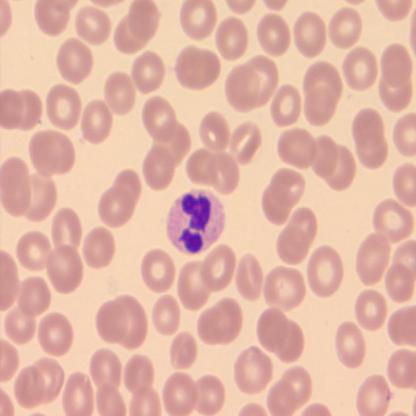Segmented neutrophil: (166, 187, 226, 256)
